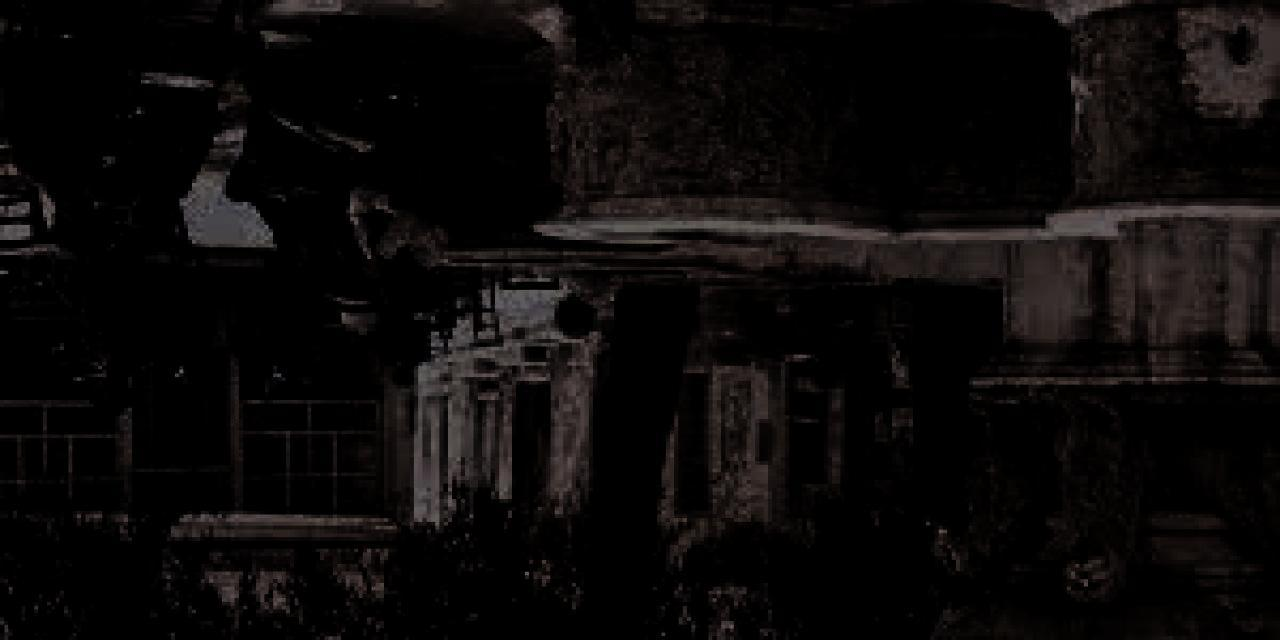Liontaria: (556, 1, 1280, 640)
